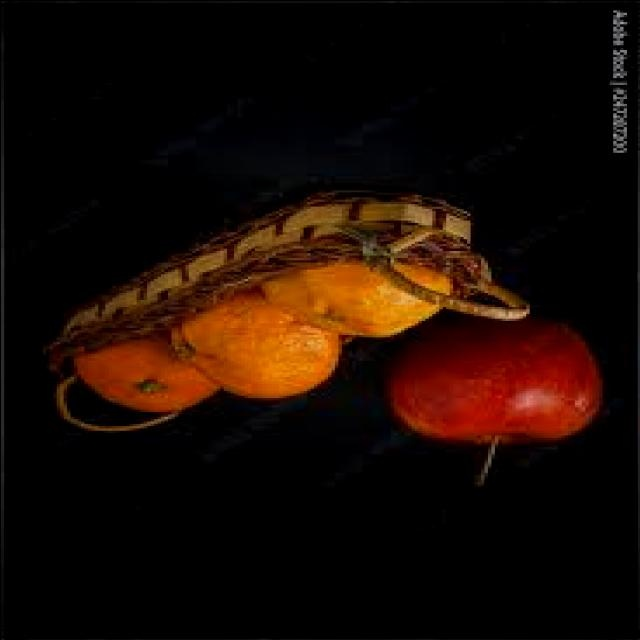agrume: (304, 293, 616, 475)
